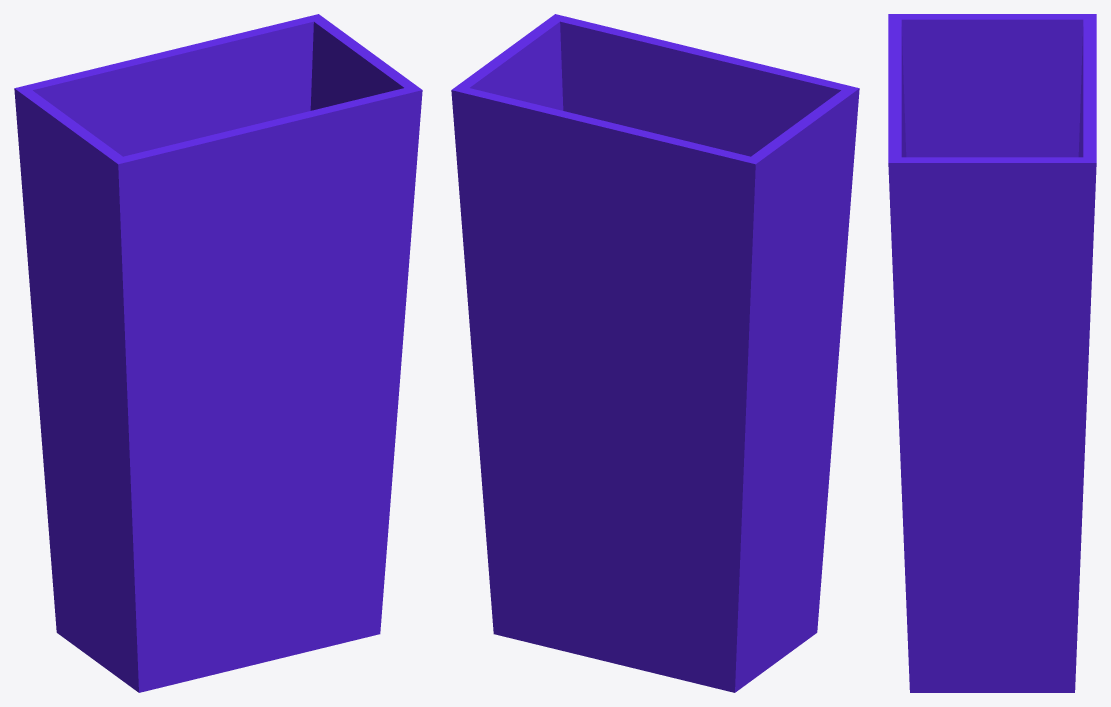
File: House_Kitchen_Goodies_trashCan.FBX
The picture shows the model from 3 angles, left to right: view 1: azimuth 30°, elevation 25°; view 2: azimuth 150°, elevation 25°; view 3: azimuth 270°, elevation 25°; orthographic projection.
Visible parts, largest first — view 1: House_Kitchen_Goodies_trashCan; view 2: House_Kitchen_Goodies_trashCan; view 3: House_Kitchen_Goodies_trashCan.
Part boxes in pixels (x1,y1,x2,y2): House_Kitchen_Goodies_trashCan: (14,14,422,692); House_Kitchen_Goodies_trashCan: (451,14,859,692); House_Kitchen_Goodies_trashCan: (888,14,1096,692).
Size of the model in its own units: 66.21 by 113 by 39.15.
